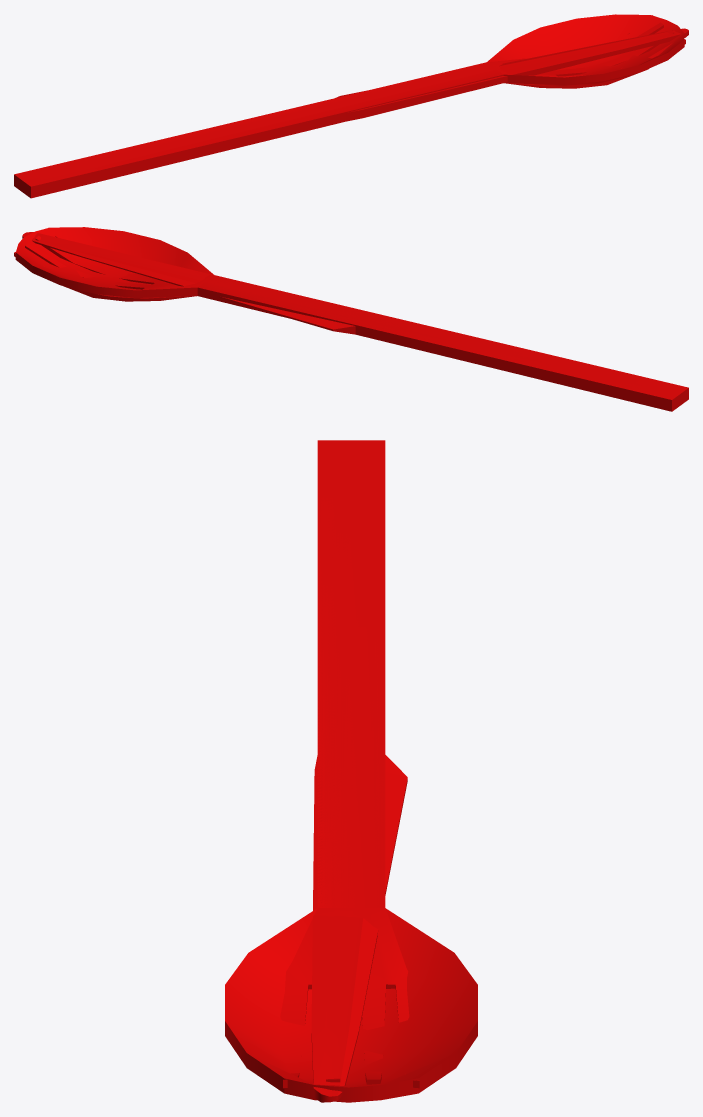
The model's file is SpoonForkKnife.fbx.
3 views of the same model, one above another, from view 1: azimuth 30°, elevation 25°; view 2: azimuth 150°, elevation 25°; view 3: azimuth 270°, elevation 25° (orthographic). The views are drawn at different scales.
Parts seen in each view (by area): view 1: Spoon, Knife, Fork; view 2: Spoon, Fork, Knife; view 3: Spoon, Fork, Knife.
Part boxes in pixels (x1,y1,x2,y2): Spoon: (14, 14, 684, 198); Knife: (14, 28, 688, 198); Fork: (14, 15, 685, 195); Spoon: (15, 227, 688, 411); Fork: (14, 227, 683, 411); Knife: (22, 232, 688, 400); Spoon: (225, 440, 477, 1102); Fork: (280, 440, 419, 1088); Knife: (311, 755, 407, 1102).
Bounding box in the file's own units: 36.28 × 1.52 × 6.03.
